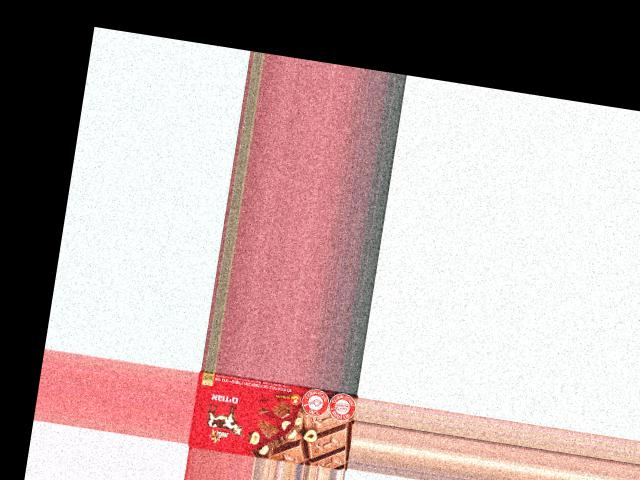chocolate: (187, 372, 357, 470)
